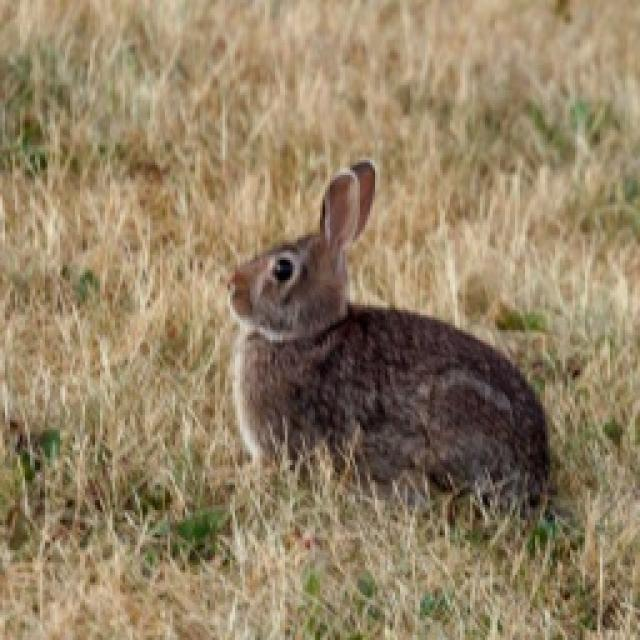not_pig: (225, 158, 557, 530)
